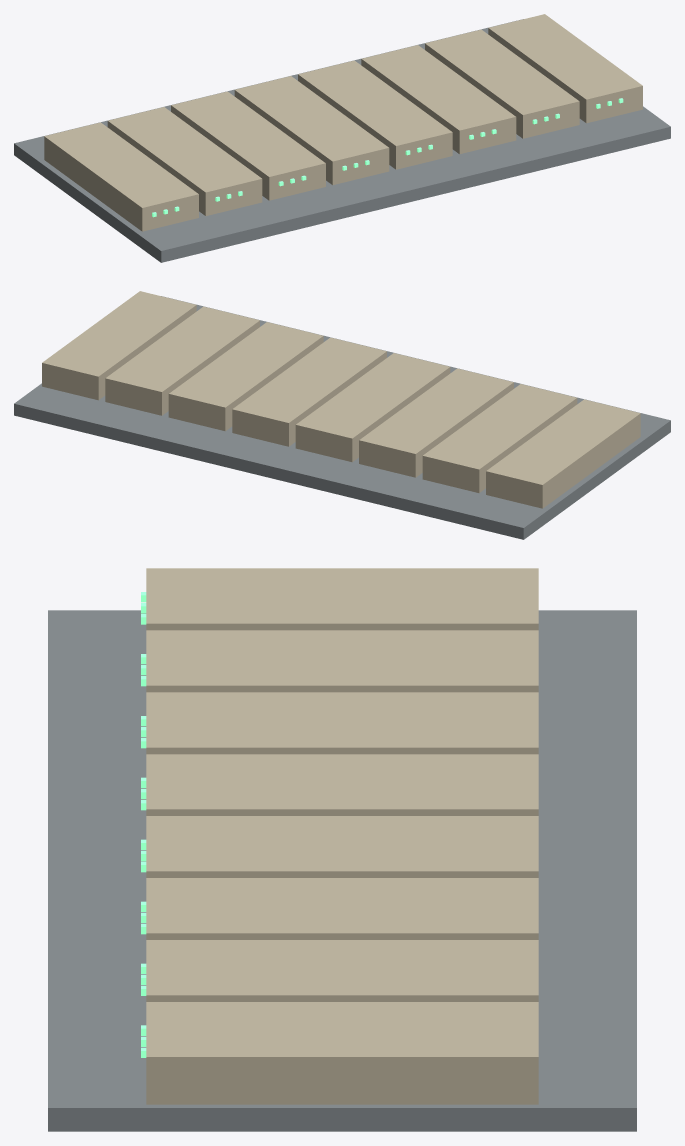
Rendered from modem-shelf-beige.glb.
The picture shows the model from 3 angles, top to bottom: view 1: azimuth 30°, elevation 25°; view 2: azimuth 150°, elevation 25°; view 3: azimuth 270°, elevation 25°; orthographic projection. The views are drawn at different scales.
Parts seen in each view (by area): view 1: kit-modem-shelf; view 2: kit-modem-shelf; view 3: kit-modem-shelf.
Part boxes in pixels (x1,y1,x2,y2): kit-modem-shelf: (14,14,670,262); kit-modem-shelf: (14,291,670,539); kit-modem-shelf: (48,568,636,1131).
Size of the model in its own units: 0.9 by 0.06 by 0.4501.
